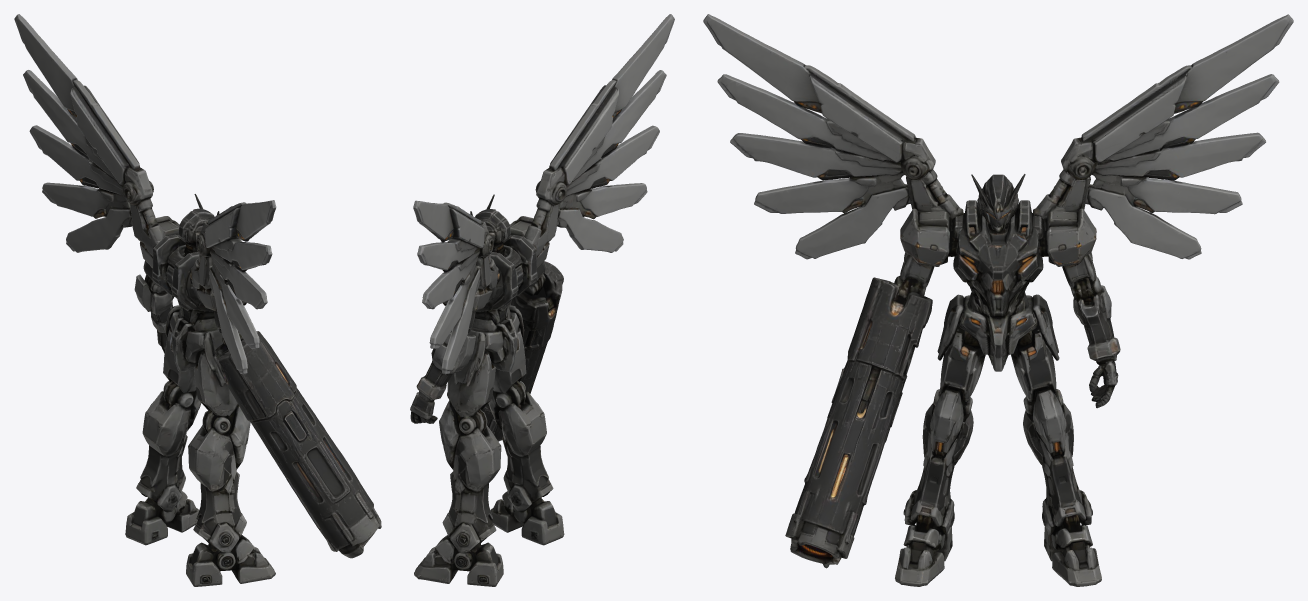
Rendered from fa47e26c-98f7-4ae5-baec-99f8e93b748b-model_url.glb.
3 views of the same model, side by side, from view 1: azimuth 30°, elevation 25°; view 2: azimuth 150°, elevation 25°; view 3: azimuth 270°, elevation 25° (orthographic). The views are drawn at different scales.
Visible parts, largest first — view 1: tripo_node_fa47e26c-98f7-4ae5-baec-99f8e93b748b; view 2: tripo_node_fa47e26c-98f7-4ae5-baec-99f8e93b748b; view 3: tripo_node_fa47e26c-98f7-4ae5-baec-99f8e93b748b.
Boxes of the visible parts, x1,y1,x2,y2 form: tripo_node_fa47e26c-98f7-4ae5-baec-99f8e93b748b: (14, 14, 381, 586); tripo_node_fa47e26c-98f7-4ae5-baec-99f8e93b748b: (410, 14, 674, 586); tripo_node_fa47e26c-98f7-4ae5-baec-99f8e93b748b: (703, 14, 1293, 586).
Bounding box in the file's own units: 0.349 × 0.9767 × 1.
1 material, 1 textured.
